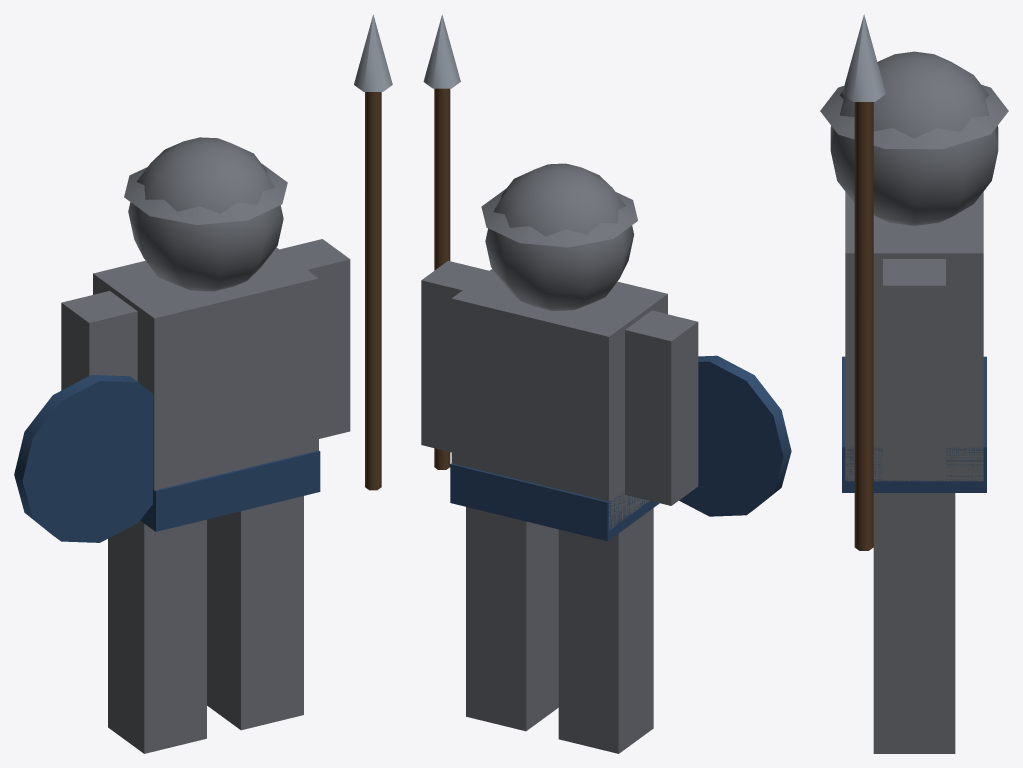
The model's file is guard.glb.
The picture shows the model from 3 angles, left to right: view 1: azimuth 30°, elevation 25°; view 2: azimuth 150°, elevation 25°; view 3: azimuth 270°, elevation 25°; orthographic projection. The views are drawn at different scales.
Size of the model in its own units: 0.7703 by 1.36 by 0.3.
